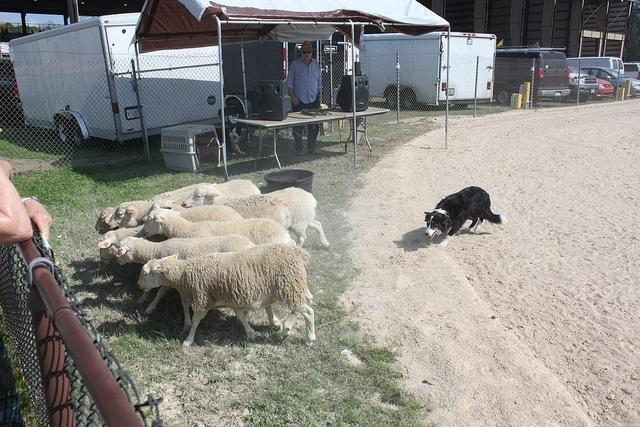car: (495, 50, 573, 106), (581, 66, 640, 95), (552, 68, 600, 103), (591, 79, 614, 100), (624, 64, 640, 78)
truck: (7, 9, 220, 148), (359, 33, 495, 112), (493, 47, 571, 106), (0, 43, 23, 122), (567, 56, 625, 76), (624, 64, 640, 80)
